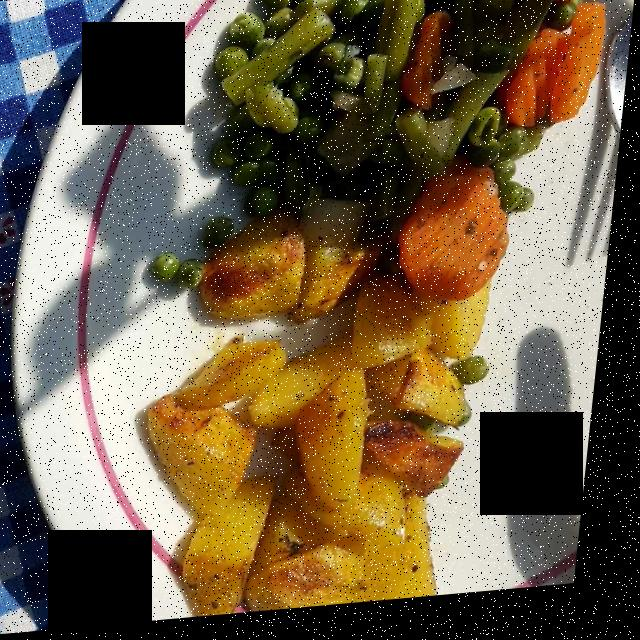potatoes-steamed: (162, 206, 493, 622)
vegetable-mix-peas-and-carrots: (211, 0, 611, 306)
